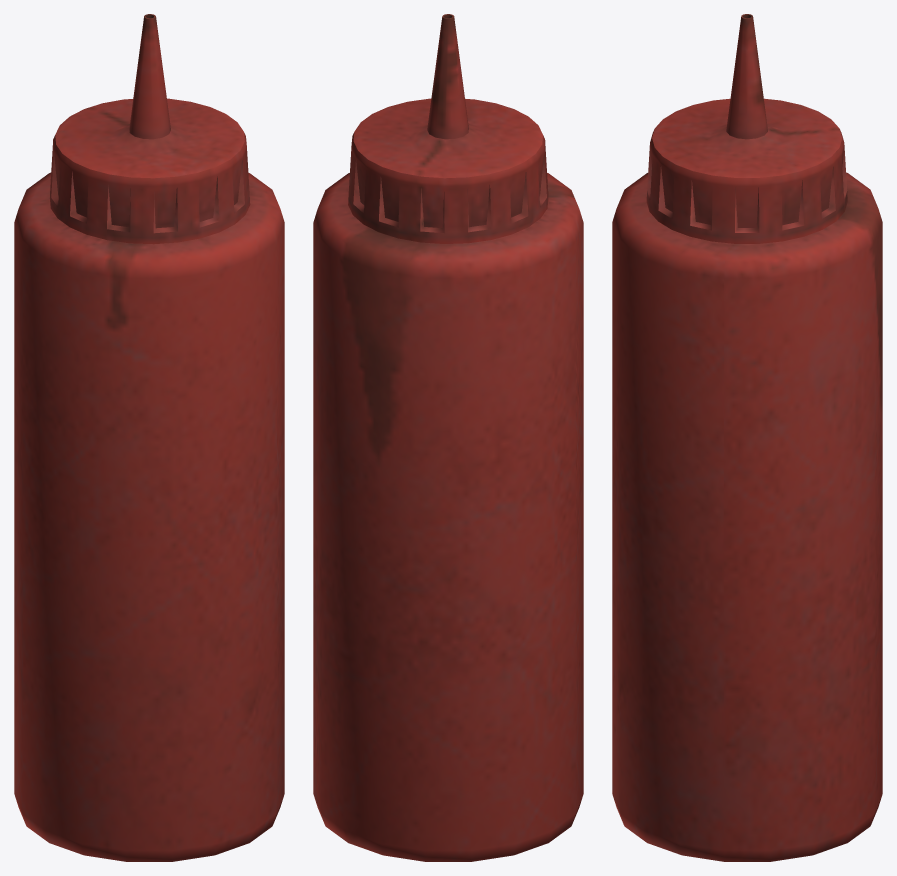
File: SM_Ketchup_01.fbx
The picture shows the model from 3 angles, left to right: view 1: azimuth 30°, elevation 25°; view 2: azimuth 150°, elevation 25°; view 3: azimuth 270°, elevation 25°; orthographic projection.
Visible parts, largest first — view 1: SM_Ketchup_01_LOD0; view 2: SM_Ketchup_01_LOD0; view 3: SM_Ketchup_01_LOD0.
Boxes of the visible parts, x1,y1,x2,y2 form: SM_Ketchup_01_LOD0: (14, 14, 284, 861); SM_Ketchup_01_LOD0: (313, 14, 583, 861); SM_Ketchup_01_LOD0: (612, 14, 882, 861).
Size of the model in its own units: 7.64 by 7.76 by 25.21.
Materials: 1 (1 with a texture image).
